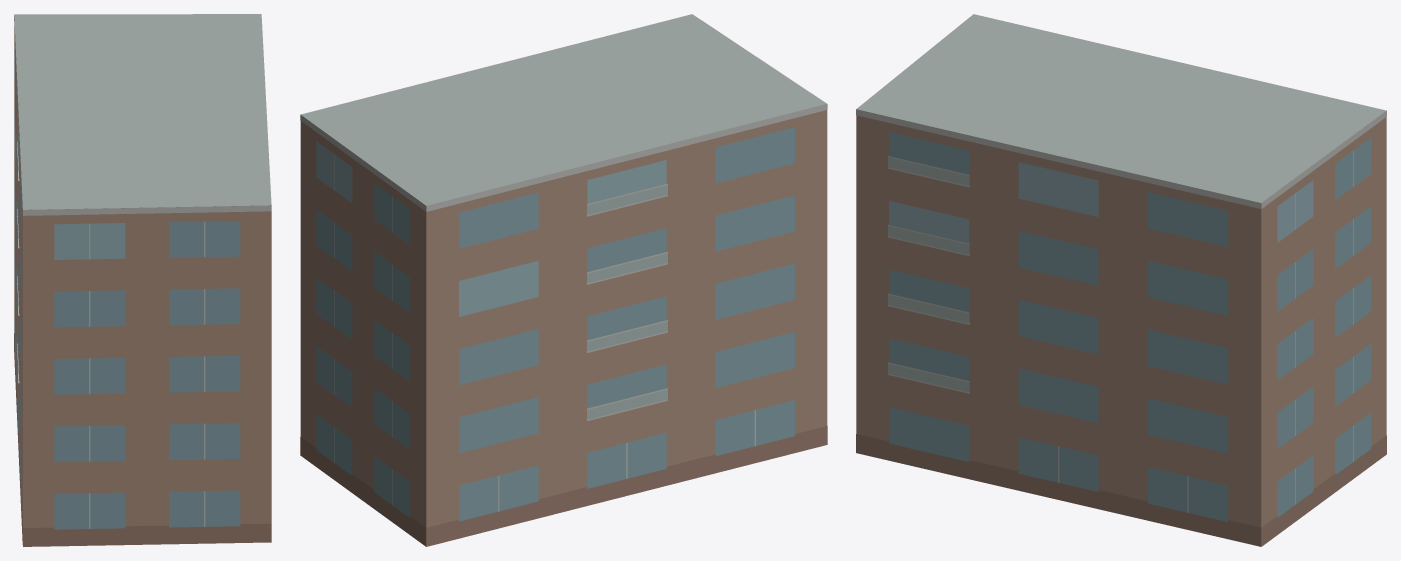
The model's file is survey-upis-32876006.glb.
3 renders of one model, left to right at view 1: azimuth 30°, elevation 25°; view 2: azimuth 150°, elevation 25°; view 3: azimuth 270°, elevation 25°, orthographic. The views are drawn at different scales.
Visible parts, largest first — view 1: survey-upis-32876006.tmp; view 2: survey-upis-32876006.tmp; view 3: survey-upis-32876006.tmp.
Boxes of the visible parts, bbox=[...] form: survey-upis-32876006.tmp: bbox=[14, 14, 271, 546]; survey-upis-32876006.tmp: bbox=[300, 14, 827, 546]; survey-upis-32876006.tmp: bbox=[856, 14, 1386, 546].
Size of the model in its own units: 16.28 by 13.8 by 19.31.
